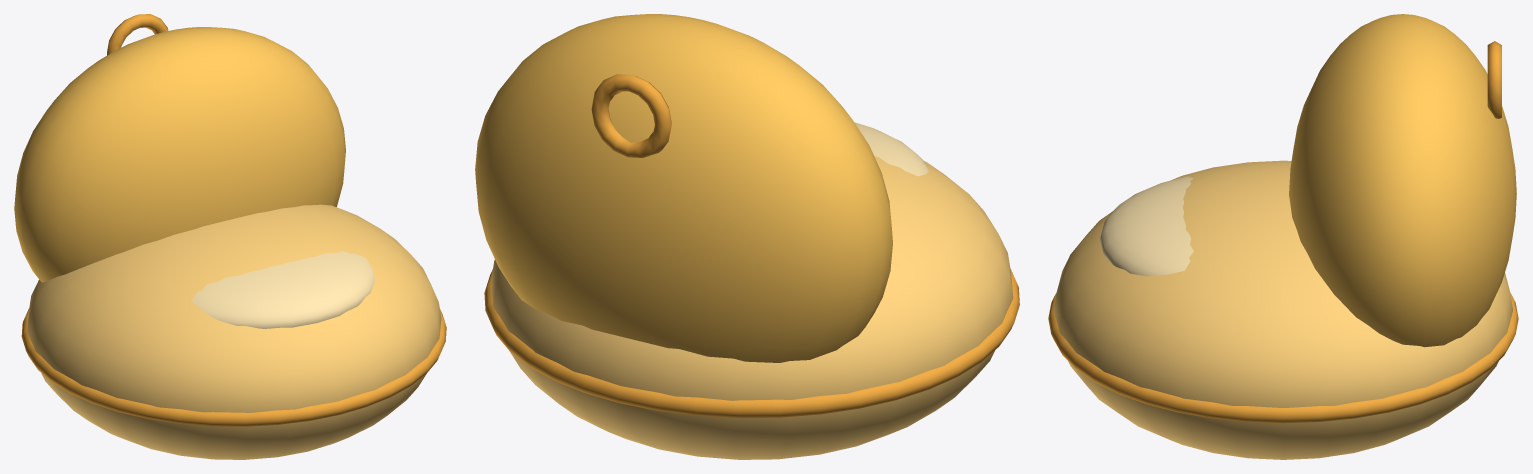
Rendered from chair-beanbag.glb.
3 views of the same model, side by side, from view 1: azimuth 30°, elevation 25°; view 2: azimuth 150°, elevation 25°; view 3: azimuth 270°, elevation 25° (orthographic). The views are drawn at different scales.
Bounding box in the file's own units: 1.02 × 0.935 × 1.02.
